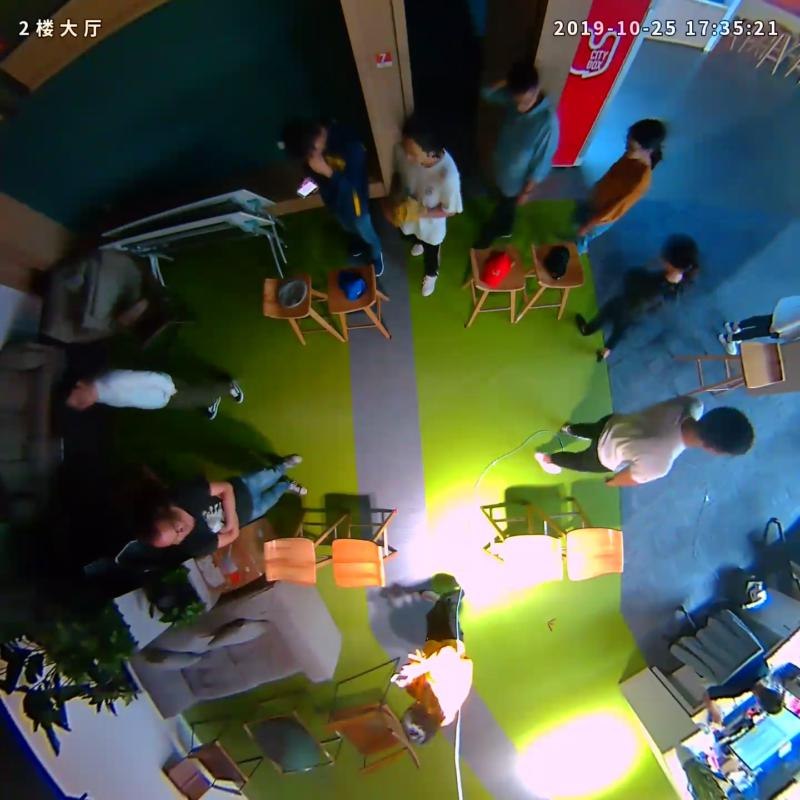head: (694, 407, 755, 458), (400, 111, 448, 168), (136, 505, 194, 550), (279, 120, 328, 166), (401, 692, 443, 745), (507, 63, 543, 112), (623, 119, 666, 159), (61, 377, 105, 412)
